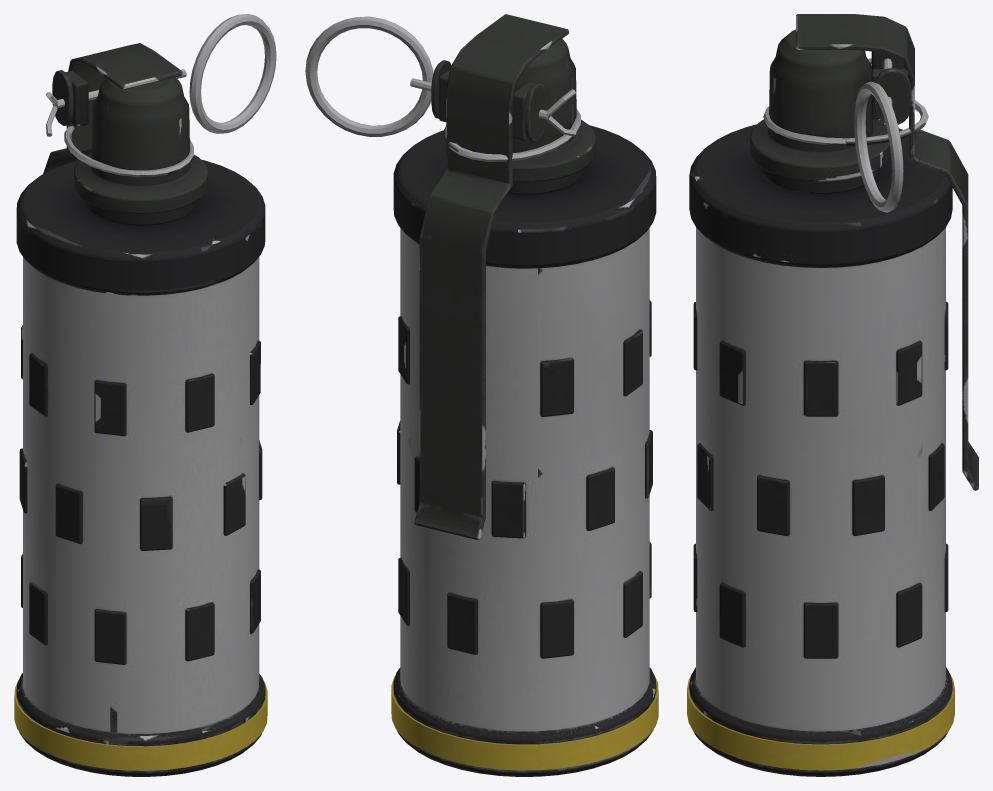
The model's file is flash.glb.
3 views of the same model, side by side, from view 1: azimuth 30°, elevation 25°; view 2: azimuth 150°, elevation 25°; view 3: azimuth 270°, elevation 25° (orthographic). The views are drawn at different scales.
Parts seen in each view (by area): view 1: body, spoon, ring; view 2: body, spoon, ring; view 3: body, spoon, ring.
Part boxes in pixels (<box>): body: <box>14,71,267,776</box>; spoon: <box>43,43,182,173</box>; ring: <box>46,14,276,136</box>; body: <box>391,39,658,776</box>; spoon: <box>414,14,568,540</box>; ring: <box>305,16,576,136</box>; body: <box>687,29,954,776</box>; spoon: <box>796,14,978,490</box>; ring: <box>854,58,903,212</box>.
Size of the model in its own units: 0.0616 by 0.1386 by 0.0525.
Materials: 5 (5 with a texture image).
